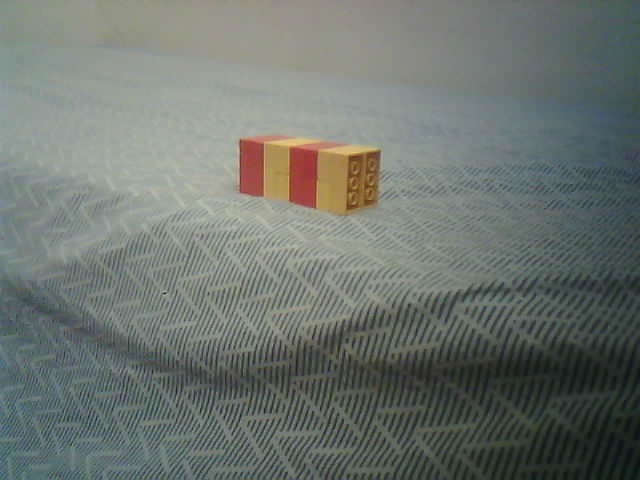lego: (238, 133, 382, 216)
